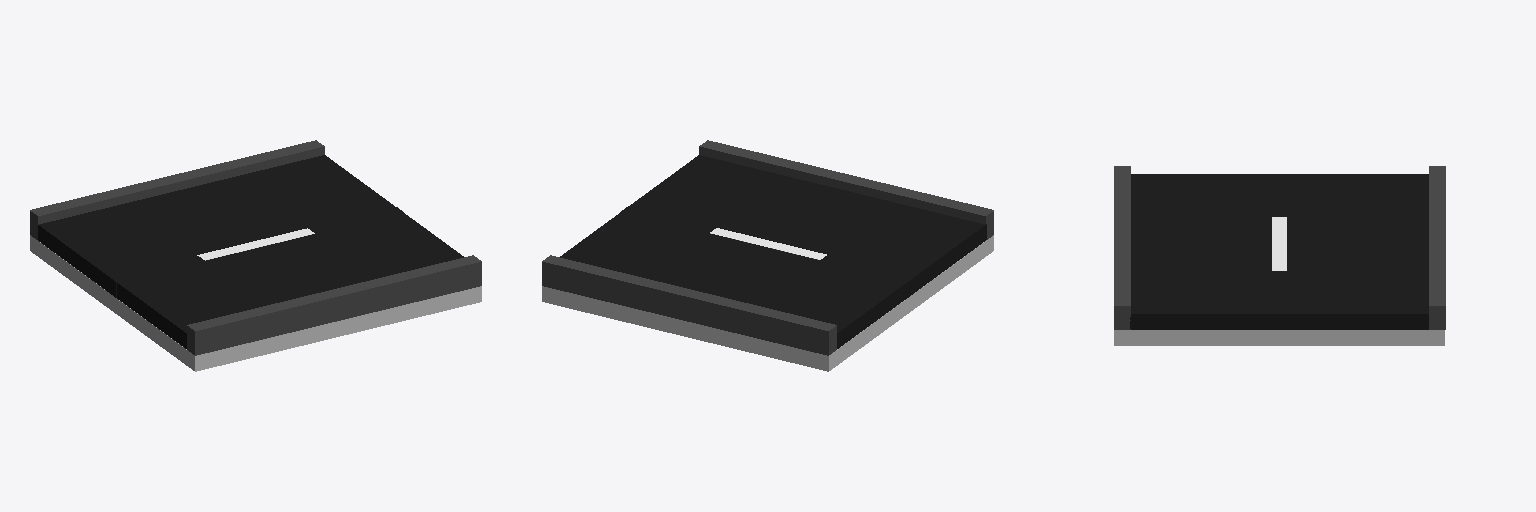
The model's file is road1.obj.
3 views of the same model, side by side, from view 1: azimuth 30°, elevation 25°; view 2: azimuth 150°, elevation 25°; view 3: azimuth 270°, elevation 25° (orthographic).
Parts seen in each view (by area): view 1: Cube.008; view 2: Cube.008; view 3: Cube.008.
Boxes of the visible parts, x1,y1,x2,y2 form: Cube.008: [30, 140, 481, 371]; Cube.008: [542, 140, 993, 371]; Cube.008: [1114, 166, 1445, 345].
Size of the model in its own units: 2.01 by 0.2705 by 2.